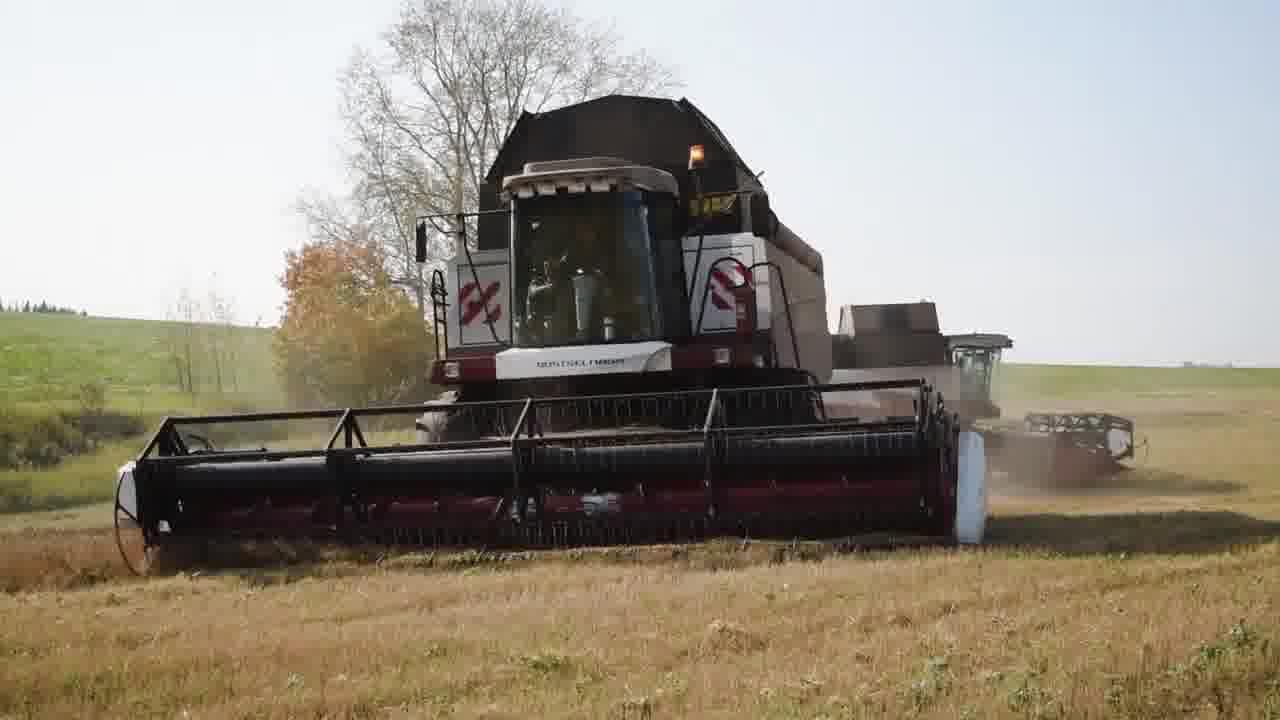combine harvester: (104, 87, 1005, 566), (826, 293, 1146, 490)
